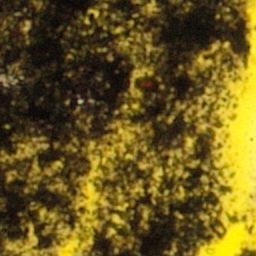cement_matrix: (0, 0, 247, 255), (197, 56, 208, 67), (153, 168, 162, 180), (185, 139, 193, 149), (113, 216, 121, 224), (21, 147, 31, 153), (136, 68, 144, 75), (244, 251, 255, 255), (118, 200, 123, 205), (134, 186, 138, 191), (173, 153, 177, 158)
cracks: (9, 125, 135, 255), (195, 0, 255, 255), (198, 57, 207, 66), (154, 169, 161, 179), (186, 140, 192, 148), (114, 217, 120, 223), (22, 148, 30, 152), (137, 69, 143, 74), (119, 201, 122, 204), (135, 187, 137, 190), (174, 154, 176, 157)
